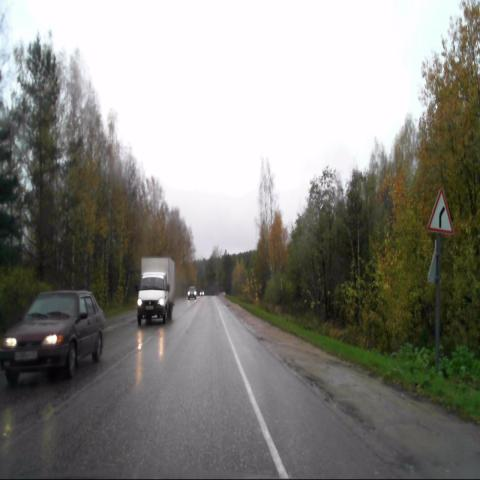1_11: (426, 187, 454, 235)
